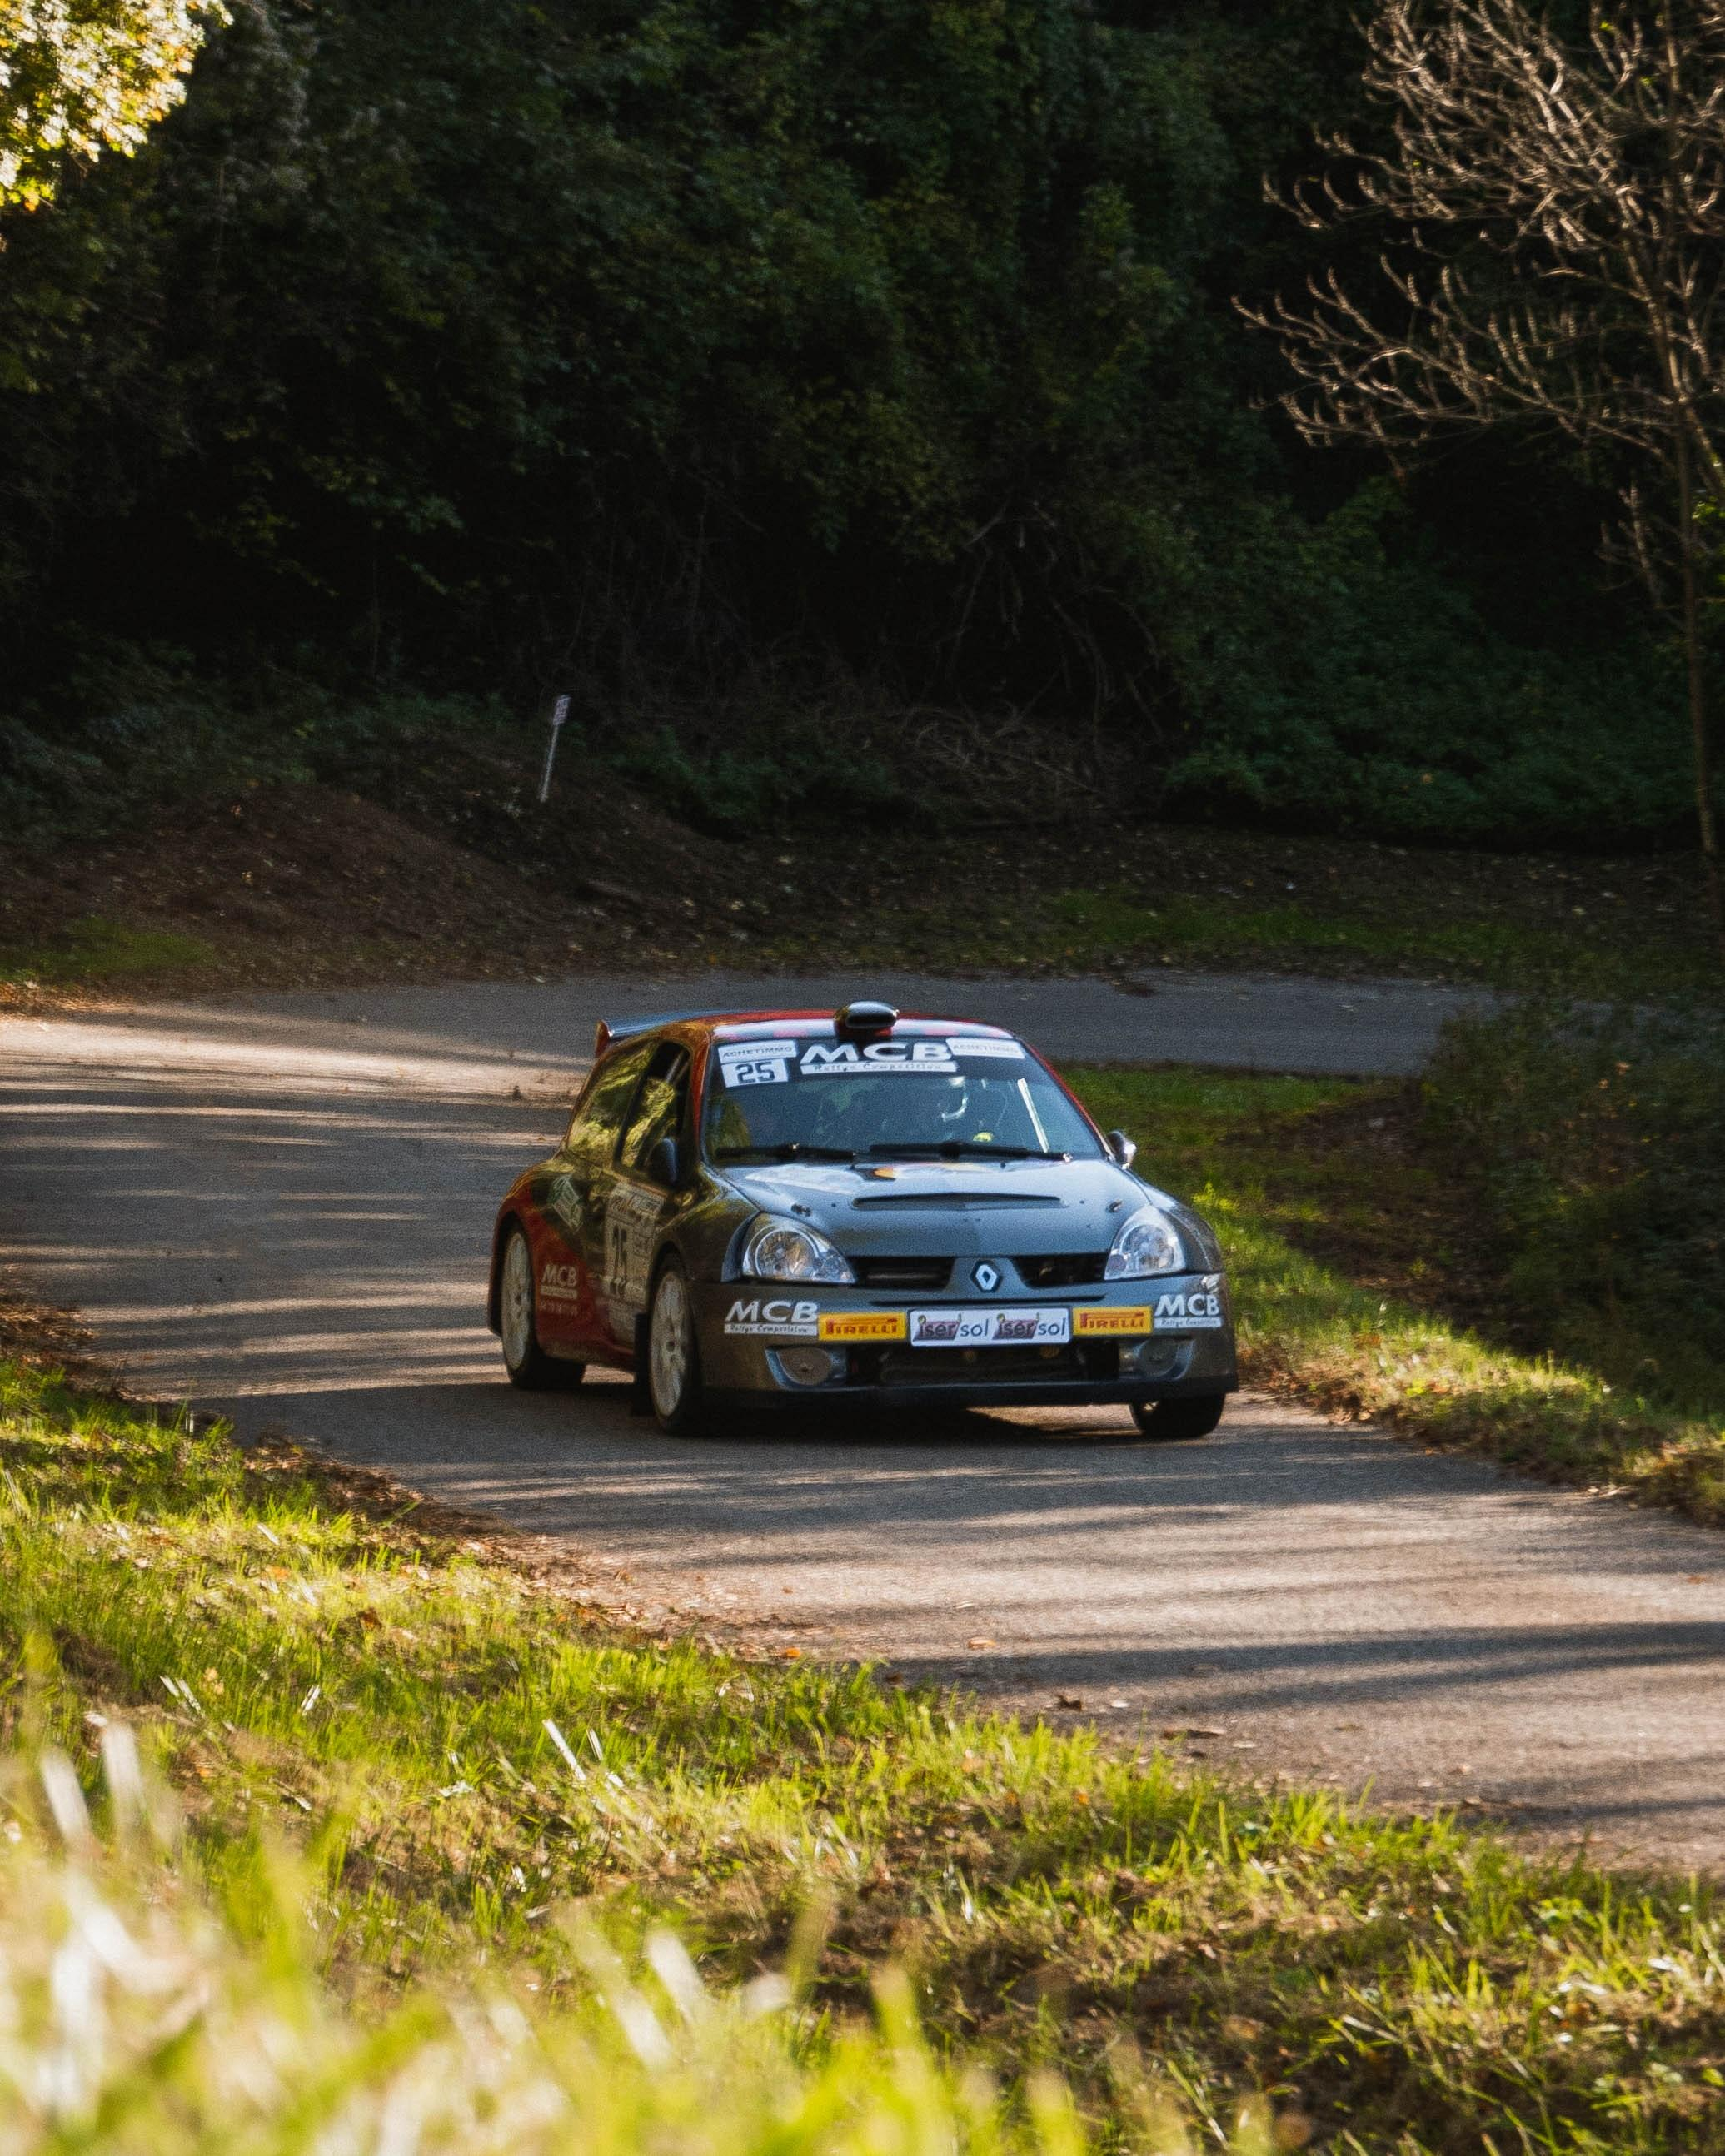Renault: (961, 1255, 1014, 1304)
